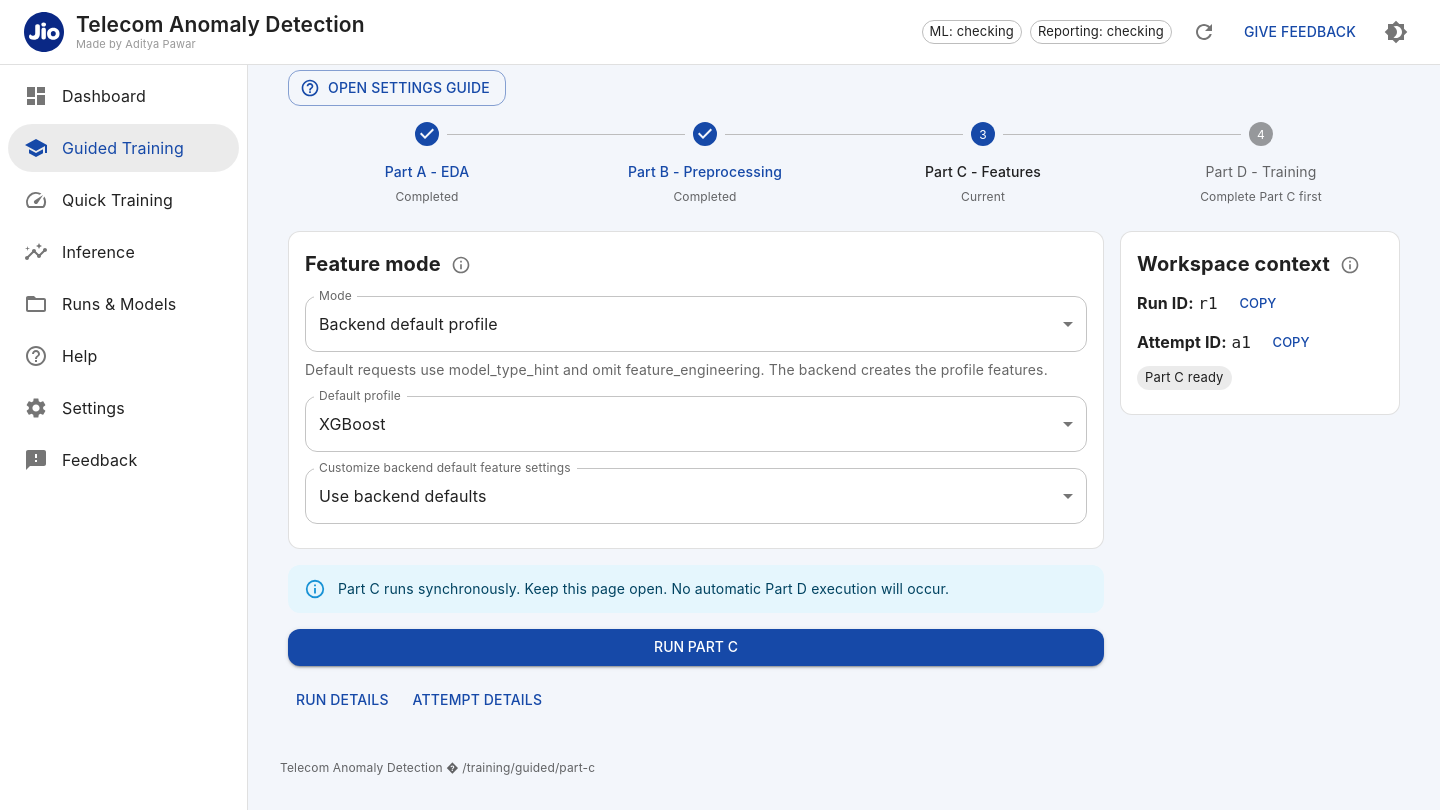
Test: Part C workspace field-level configuration › uses the exact XGBoost default request and shows run, attempt, report links with Part D continuation
(page scrolled)
Click the button "Run Part C". click: {"x": 696, "y": 647}
box: [288,629,1104,666]
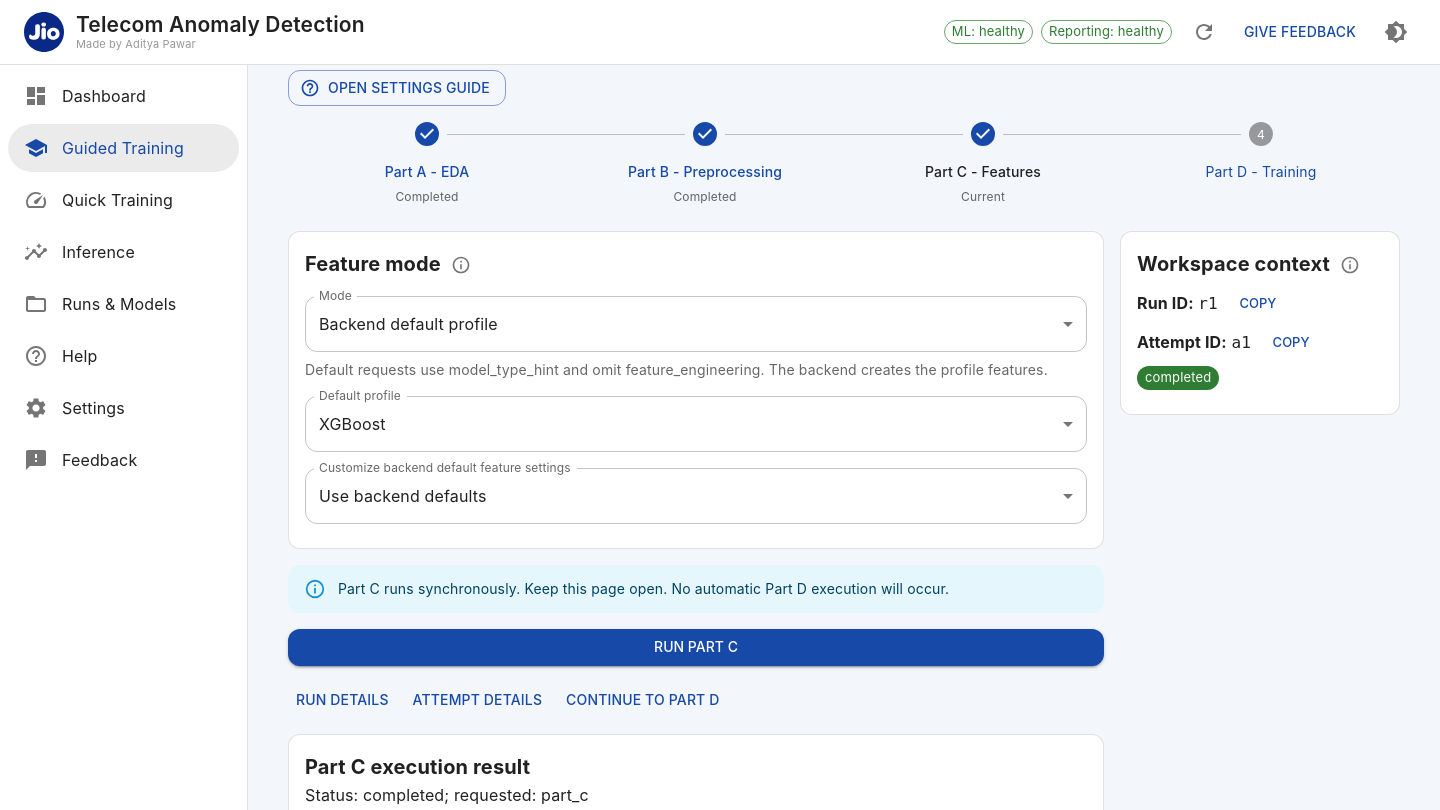
Now the link "Continue to Part D" is shown, box [566,691,720,708]
